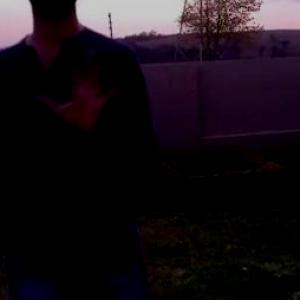follow_hand: (36, 43, 131, 138)
